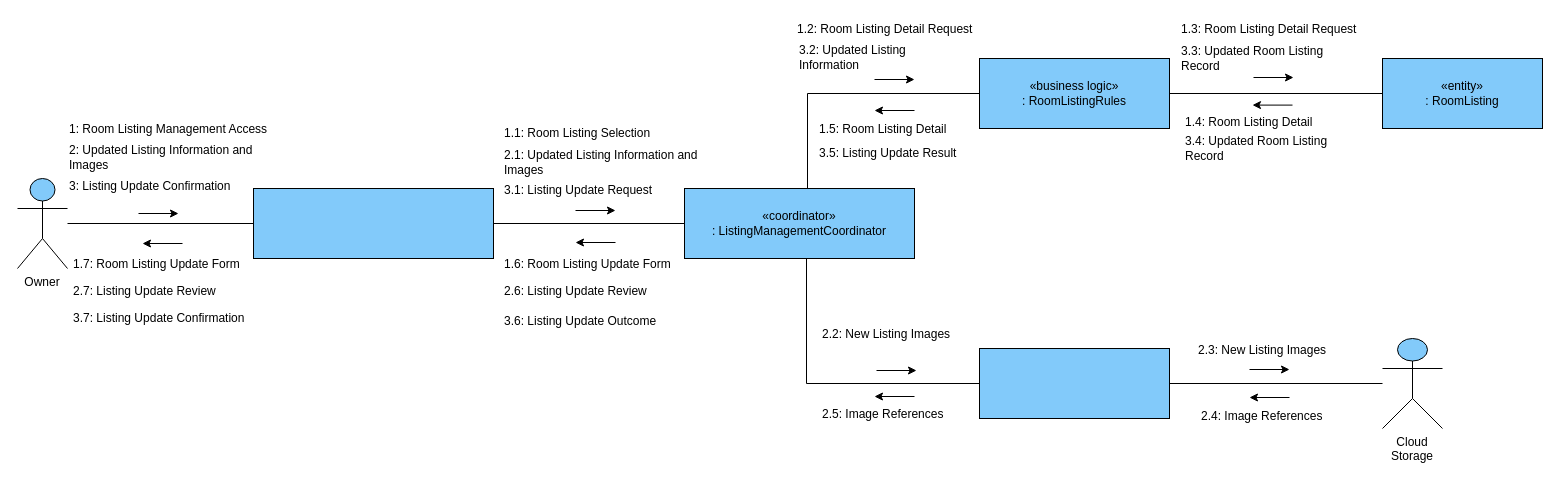
This 1560x481 diagram has some shape labels left out. Each missing label, with the centre of its shape:
"«proxy» : CloudStorageProxy" belongs at (1074,383).
"«user interaction» : RoomListingManagementUI" belongs at (373,223).
